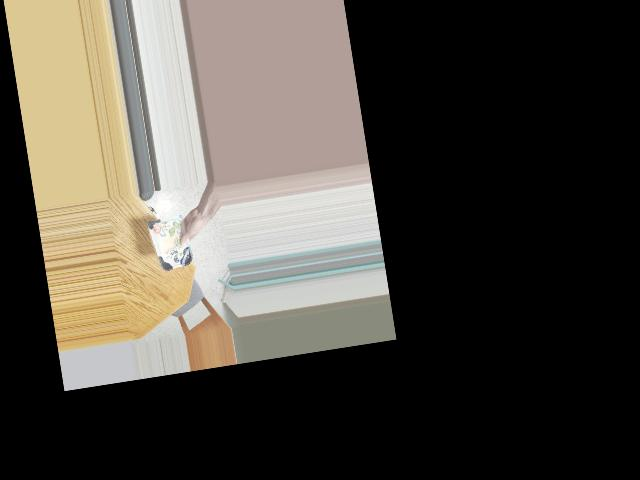cheese: (146, 213, 200, 271)
